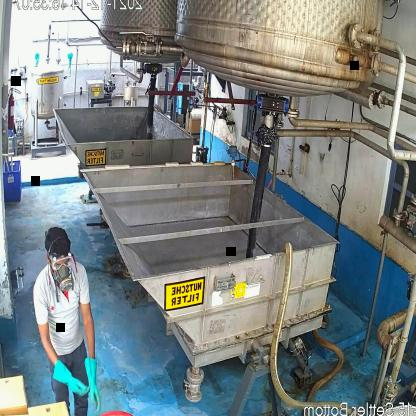goggles: (50, 250, 77, 272)
mask: (48, 264, 77, 296)
